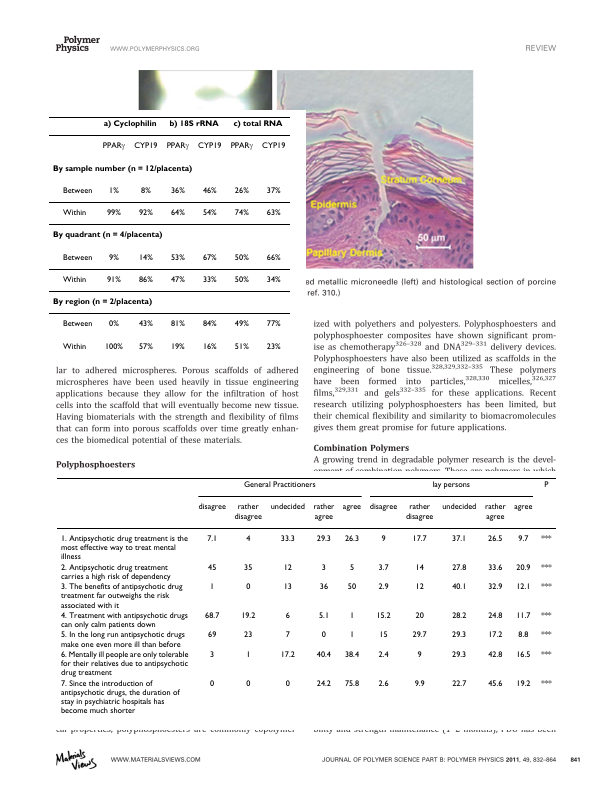borderless: (55, 476, 557, 724), (47, 115, 291, 359)
cell: (59, 679, 180, 716), (59, 650, 189, 678), (59, 534, 188, 562), (59, 582, 183, 611), (59, 630, 185, 650), (59, 611, 188, 630), (59, 563, 171, 582), (51, 164, 193, 174), (51, 231, 163, 240), (51, 298, 153, 307), (242, 480, 316, 490), (404, 503, 434, 522), (233, 503, 262, 522), (101, 131, 125, 153), (165, 131, 189, 153), (229, 131, 253, 153), (102, 120, 157, 129), (168, 120, 219, 129), (232, 120, 283, 129), (312, 503, 335, 522), (483, 503, 506, 522), (431, 480, 470, 490), (269, 503, 305, 512), (441, 503, 477, 512), (368, 503, 398, 512), (197, 503, 226, 512), (61, 186, 93, 194), (61, 253, 93, 261), (61, 320, 93, 328), (61, 275, 87, 283), (61, 342, 87, 350), (133, 142, 158, 150), (197, 142, 222, 150), (261, 142, 286, 150), (341, 503, 362, 512), (61, 209, 87, 216), (513, 503, 533, 512), (343, 650, 360, 660), (343, 679, 360, 689), (103, 342, 123, 350), (279, 534, 295, 544), (315, 534, 331, 544), (343, 534, 359, 544), (411, 534, 427, 544), (451, 534, 467, 544), (487, 534, 503, 544), (451, 563, 467, 573), (487, 563, 503, 573), (515, 563, 531, 573), (451, 582, 467, 592), (487, 582, 503, 592), (515, 582, 531, 592), (204, 611, 220, 621), (240, 611, 256, 621), (375, 611, 391, 621), (451, 611, 467, 621), (487, 611, 503, 621), (515, 611, 531, 621), (411, 630, 427, 640), (451, 630, 467, 640), (487, 630, 503, 640), (279, 650, 295, 660), (315, 650, 331, 660), (451, 650, 467, 660), (487, 650, 503, 660), (515, 650, 531, 660), (315, 679, 331, 689), (451, 679, 467, 689), (487, 679, 503, 689), (515, 679, 531, 689), (169, 186, 185, 194), (201, 186, 217, 194), (233, 186, 249, 194), (265, 186, 281, 194), (137, 253, 153, 261), (169, 253, 185, 261), (201, 253, 217, 261), (233, 253, 249, 261), (265, 253, 281, 261), (105, 275, 121, 283), (137, 275, 153, 283), (169, 275, 185, 283), (201, 275, 217, 283), (233, 275, 249, 283), (265, 275, 281, 283), (137, 320, 153, 328), (169, 320, 185, 328), (201, 320, 217, 328), (233, 320, 249, 328), (265, 320, 281, 328), (137, 342, 153, 350), (169, 342, 185, 350), (201, 342, 217, 350), (233, 342, 249, 350), (265, 342, 281, 350), (206, 534, 218, 544), (517, 534, 529, 544), (540, 534, 552, 544), (377, 563, 389, 573), (540, 563, 552, 573), (377, 582, 389, 592), (540, 582, 552, 592), (317, 611, 329, 621), (540, 611, 552, 621), (517, 630, 529, 640), (540, 630, 552, 640), (377, 650, 389, 660), (540, 650, 552, 660), (377, 679, 389, 689), (413, 679, 425, 689), (540, 679, 552, 689), (105, 209, 121, 216), (137, 209, 153, 216), (169, 209, 185, 216), (201, 209, 217, 216), (233, 209, 249, 216), (265, 209, 281, 216), (318, 582, 329, 592), (346, 582, 357, 592), (207, 563, 217, 573), (243, 563, 253, 573), (282, 563, 292, 573), (414, 563, 424, 573), (282, 582, 292, 592), (414, 582, 424, 592), (414, 611, 424, 621), (207, 630, 217, 640), (243, 630, 253, 640), (378, 630, 388, 640), (108, 186, 119, 194), (140, 186, 151, 194), (108, 253, 119, 261), (108, 320, 119, 328), (348, 563, 355, 573), (348, 611, 355, 621), (348, 630, 355, 640), (543, 480, 549, 490), (245, 534, 251, 544), (380, 534, 386, 544), (320, 563, 326, 573), (209, 582, 215, 592), (245, 582, 251, 592), (284, 611, 290, 621), (284, 630, 290, 640), (320, 630, 326, 640), (209, 650, 215, 660), (245, 650, 251, 660), (416, 650, 422, 660), (209, 679, 215, 689), (245, 679, 251, 689), (284, 679, 290, 689)
